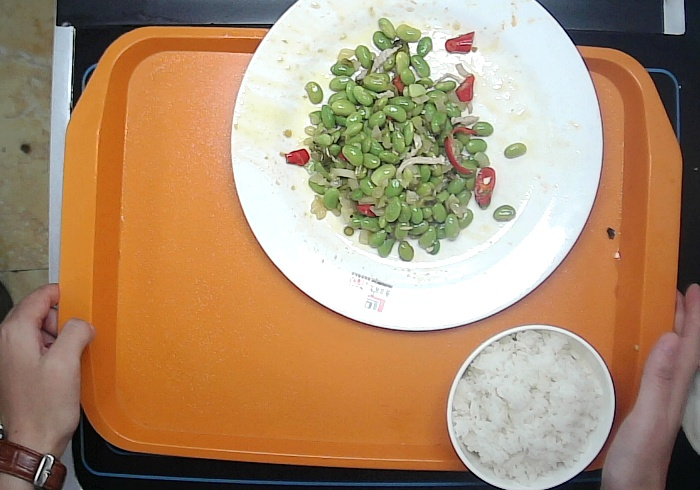ZNLD-Da_Yuan_Pan: (228, 3, 604, 331)
ZNLD-Fan_Wan: (444, 323, 618, 490)
